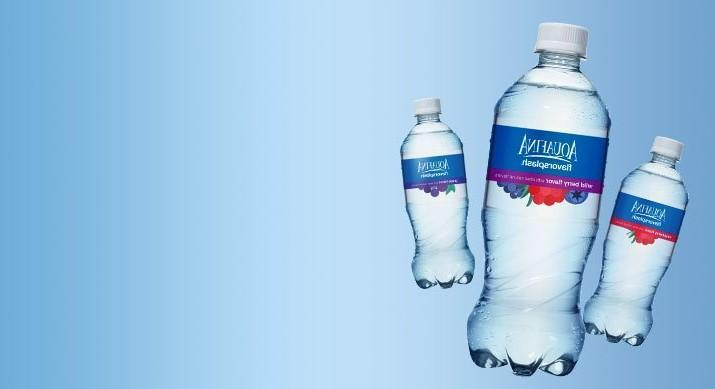bottle: (466, 18, 609, 381), (584, 132, 689, 354), (397, 93, 479, 290)
